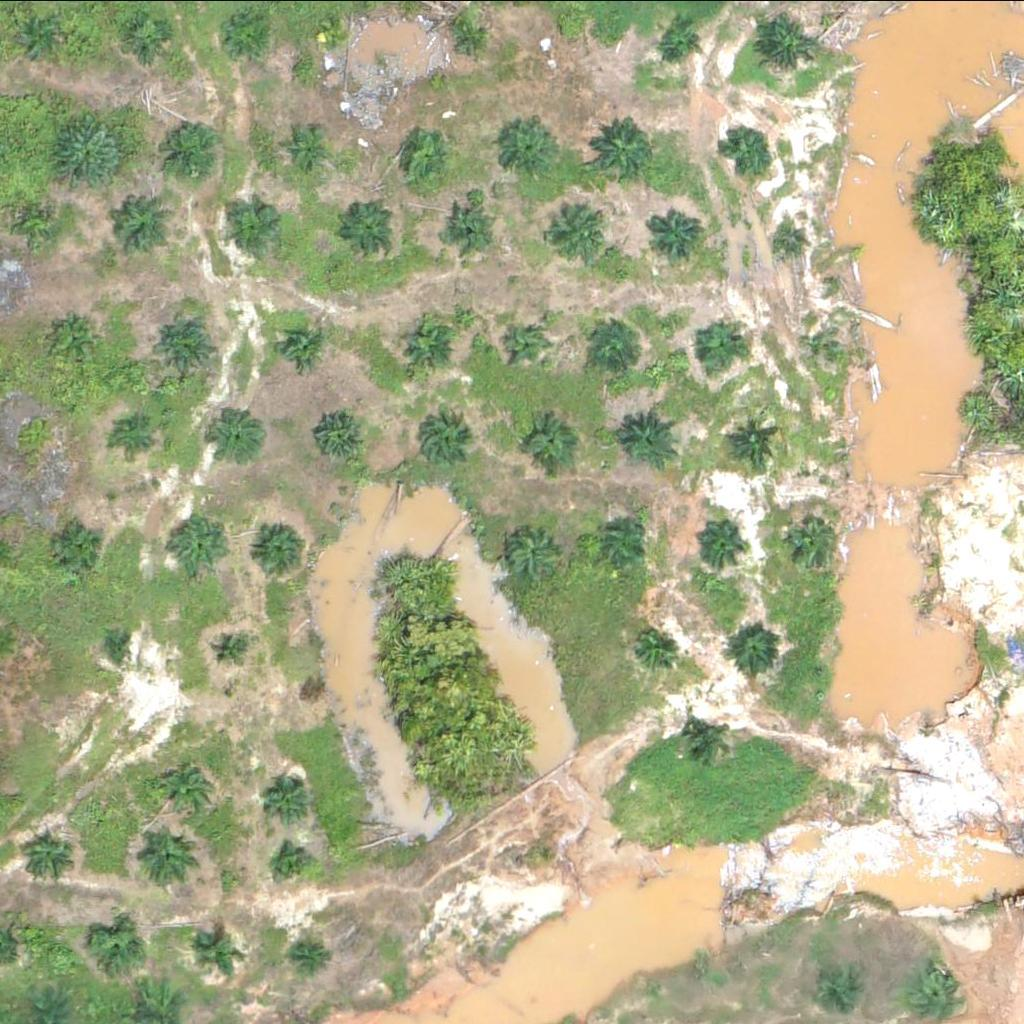Kelapa_Sawit: (153, 113, 229, 188), (49, 113, 125, 188), (108, 196, 171, 259), (622, 408, 685, 471), (154, 311, 217, 374), (155, 757, 218, 820), (588, 118, 651, 180), (551, 200, 614, 262), (498, 121, 561, 183), (251, 518, 314, 580), (393, 314, 456, 376), (169, 514, 232, 576), (753, 15, 816, 77), (137, 824, 200, 886), (689, 323, 740, 373), (590, 319, 641, 369), (527, 421, 578, 471), (213, 410, 264, 460), (512, 527, 563, 577), (595, 516, 646, 566), (693, 516, 744, 566), (732, 416, 783, 466), (314, 413, 365, 463), (278, 322, 329, 372), (50, 520, 101, 570), (655, 208, 705, 258), (722, 127, 772, 177), (439, 201, 489, 251), (233, 198, 283, 248), (343, 202, 393, 252), (216, 12, 266, 62), (120, 13, 170, 63), (399, 135, 449, 185), (417, 416, 467, 466), (733, 625, 783, 675), (916, 966, 966, 1016), (811, 956, 861, 1006), (659, 16, 709, 66), (442, 8, 492, 58), (794, 514, 844, 564), (629, 622, 679, 672), (685, 713, 735, 763), (6, 11, 56, 61), (94, 921, 144, 971), (27, 832, 77, 882), (263, 772, 313, 822), (289, 132, 327, 170), (119, 419, 157, 457), (199, 934, 237, 972), (290, 933, 328, 971), (273, 846, 311, 884), (62, 315, 100, 352), (506, 326, 544, 363), (210, 628, 248, 665), (26, 205, 52, 230), (775, 227, 800, 252), (317, 24, 342, 49), (552, 17, 577, 42), (107, 634, 132, 659), (809, 322, 834, 347)
